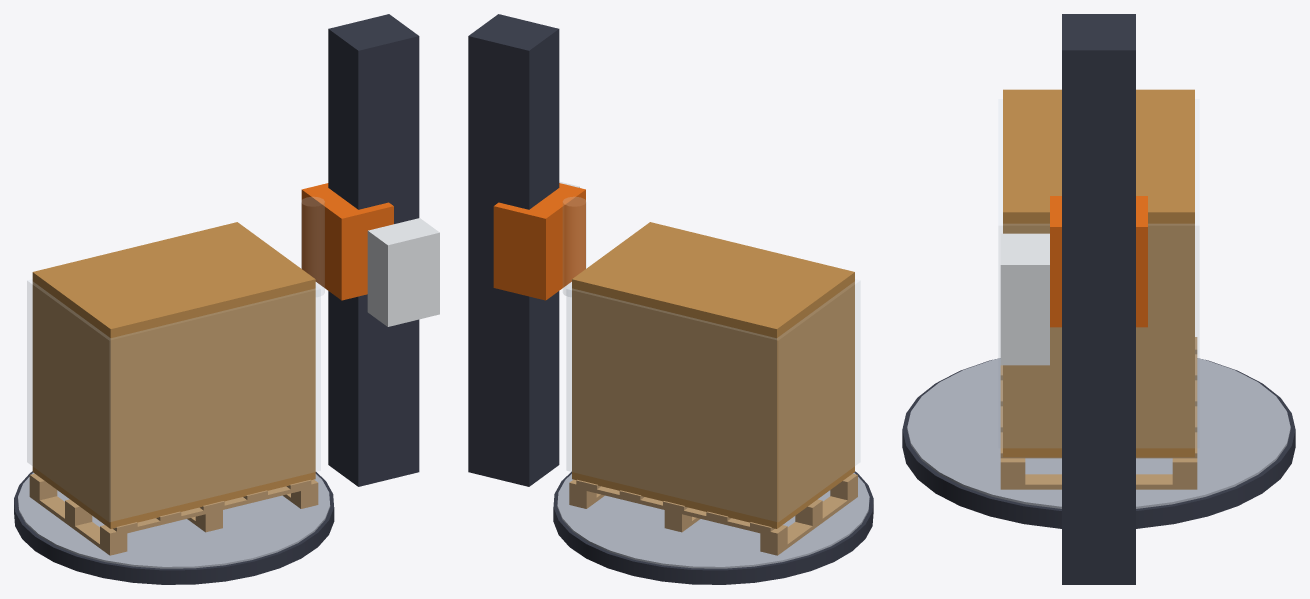
The model's file is lgx-004.glb.
The picture shows the model from 3 angles, left to right: view 1: azimuth 30°, elevation 25°; view 2: azimuth 150°, elevation 25°; view 3: azimuth 270°, elevation 25°; orthographic projection. The views are drawn at different scales.
Parts seen in each view (by area): view 1: pastry, glass_clear, dark_steel, steel, white, hi_vis_orange, oak; view 2: pastry, glass_clear, dark_steel, steel, hi_vis_orange, oak; view 3: dark_steel, pastry, steel, glass_clear, white, oak, hi_vis_orange.
Boxes of the visible parts, x1,y1,x2,y2 form: pastry: [32, 222, 315, 528]; glass_clear: [27, 197, 324, 521]; dark_steel: [14, 14, 419, 584]; steel: [18, 472, 330, 568]; white: [367, 218, 439, 326]; hi_vis_orange: [301, 183, 393, 300]; oak: [29, 473, 318, 555]; pastry: [572, 222, 854, 528]; glass_clear: [563, 197, 859, 521]; dark_steel: [468, 14, 873, 584]; steel: [557, 472, 869, 568]; hi_vis_orange: [493, 183, 585, 300]; oak: [569, 473, 857, 555]; dark_steel: [902, 14, 1295, 584]; pastry: [1003, 89, 1194, 457]; steel: [907, 358, 1290, 508]; glass_clear: [999, 99, 1198, 447]; white: [1000, 233, 1049, 365]; oak: [1000, 337, 1197, 489]; hi_vis_orange: [1050, 196, 1147, 327].
Size of the model in its own units: 2.12 by 2.4 by 1.6.
